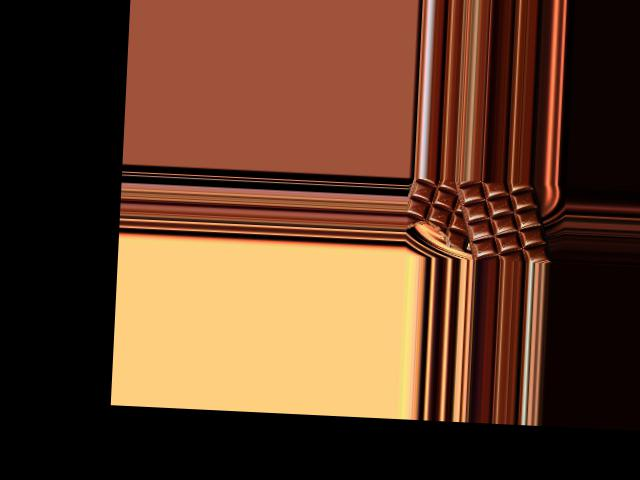chocolate: (450, 179, 557, 262)
